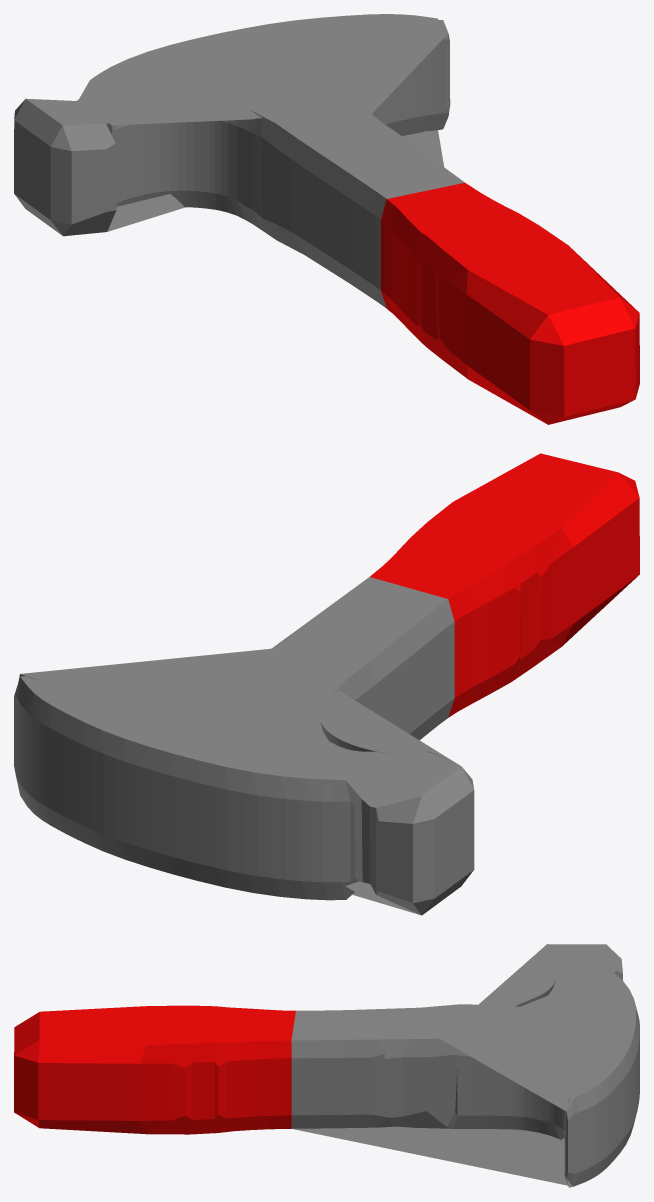
Rendered from hammer.fbx.
3 views of the same model, one above another, from view 1: azimuth 30°, elevation 25°; view 2: azimuth 150°, elevation 25°; view 3: azimuth 270°, elevation 25° (orthographic). The views are drawn at different scales.
Parts seen in each view (by area): view 1: Plane; view 2: Plane; view 3: Plane.
Boxes of the visible parts, box(x1,y1,x2,y2) form: Plane: box(14, 14, 639, 424); Plane: box(14, 453, 639, 915); Plane: box(14, 944, 639, 1187).
Size of the model in its own units: 96.45 by 26.09 by 158.
